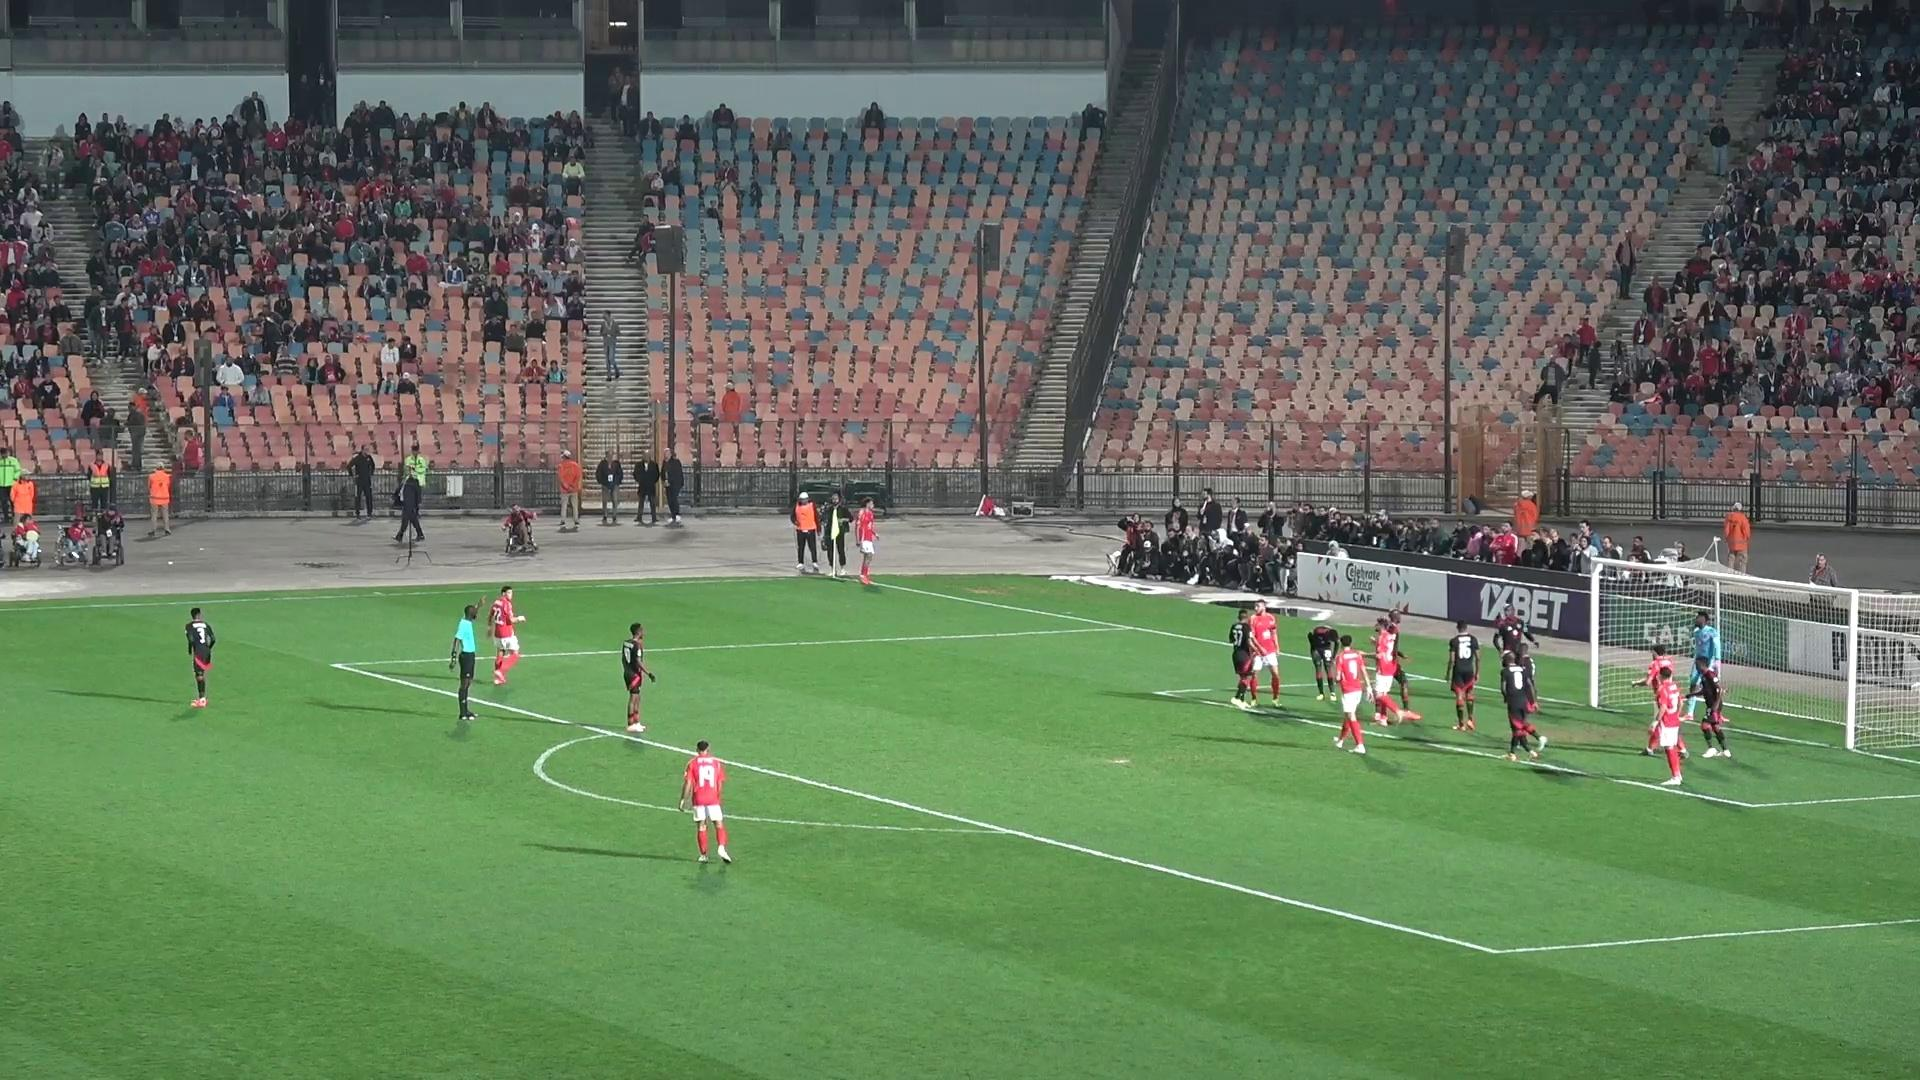GK2: (1688, 612, 1722, 690)
Refree: (450, 603, 477, 720)
Team1: (1648, 655, 1685, 785), (1331, 636, 1366, 754), (1636, 647, 1672, 754), (488, 585, 525, 686), (1249, 601, 1282, 708), (847, 497, 877, 585)
Team2: (1375, 611, 1420, 723), (1688, 655, 1729, 757), (618, 624, 655, 733), (1501, 645, 1528, 758), (1228, 604, 1255, 708), (1494, 603, 1538, 651)
